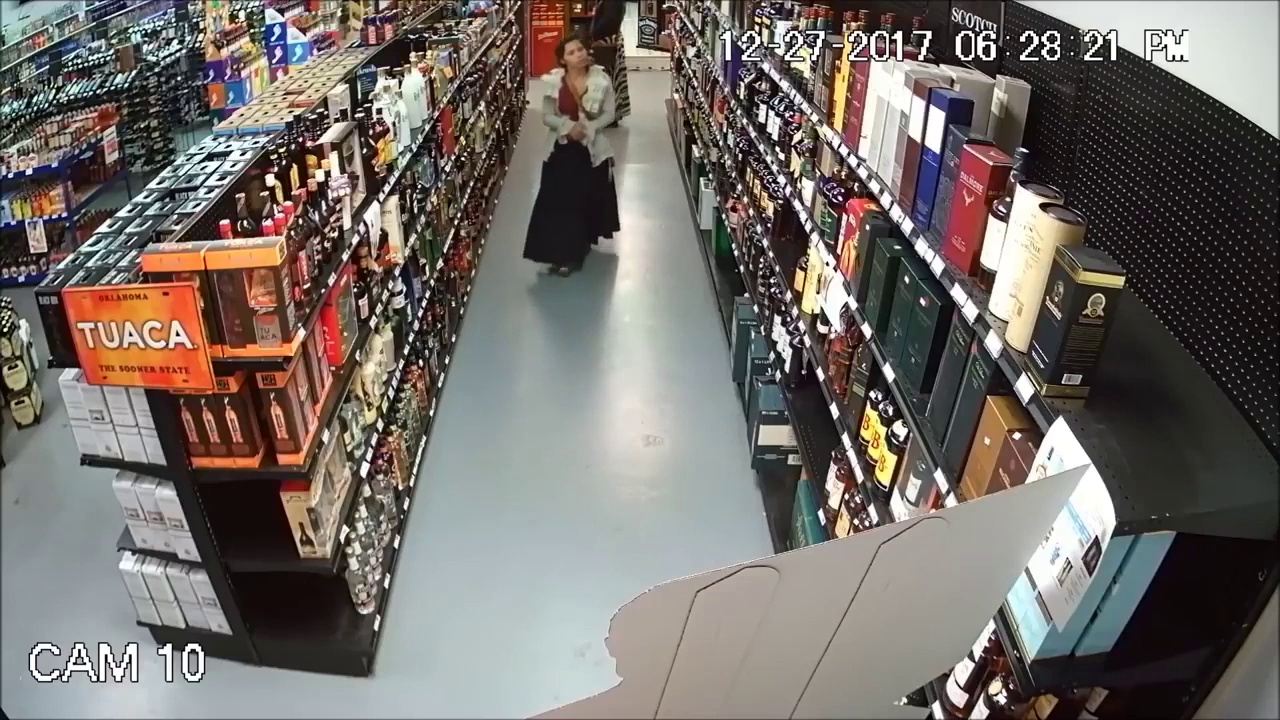face: (562, 42, 591, 72)
